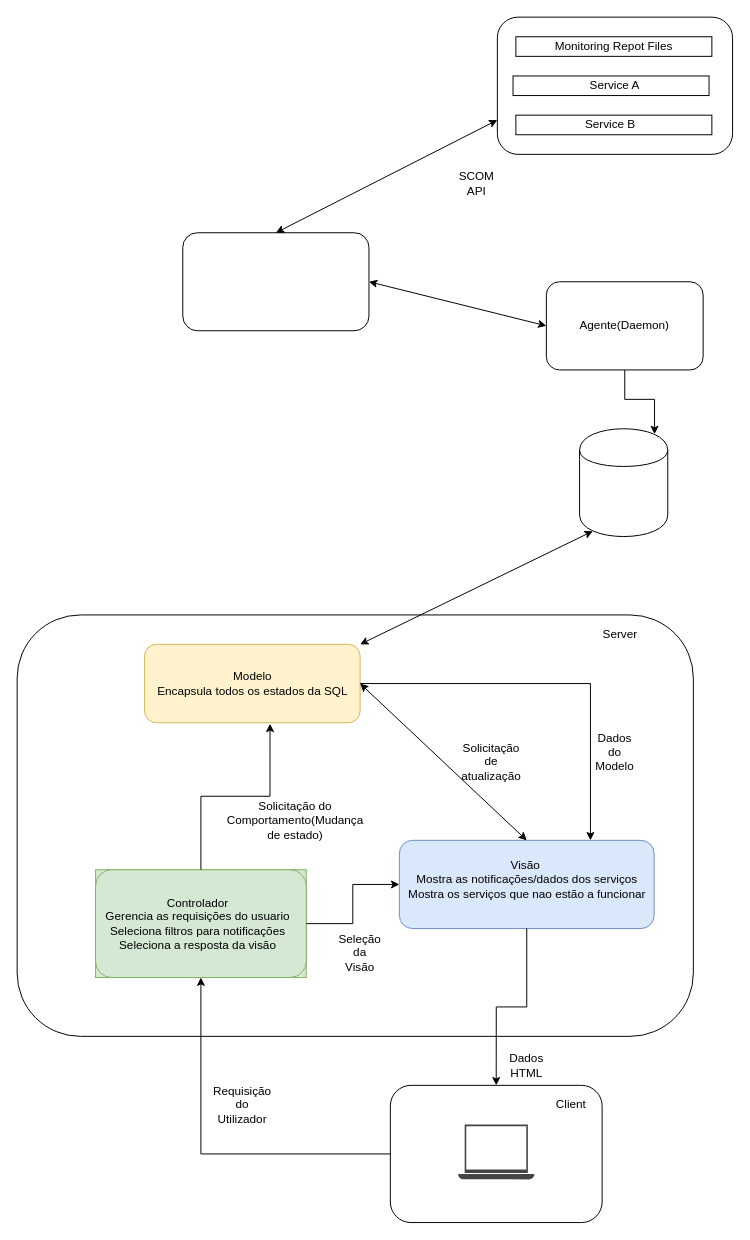
This 750x1240 diagram has some shape labels left out. The shapes that lost their labels are listed below. From the top down, each one's box as (x1, y1, x2, y2) in pixels, then its label:
(182, 232, 369, 331): Service Bus(WSO2)
(579, 428, 668, 537): SQL Server
(458, 1124, 534, 1179): IsDown
